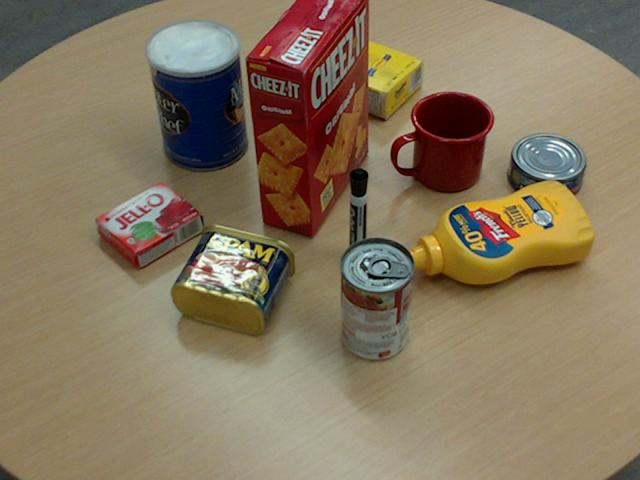cracker_box: (244, 0, 369, 236)
gelatin_box: (94, 179, 202, 267)
large_marker: (349, 168, 367, 262)
master_chef_can: (145, 18, 247, 171)
mug: (391, 90, 493, 191)
mustard_bottle: (402, 179, 593, 284)
potted_meat_can: (170, 223, 294, 333)
sugar_box: (271, 18, 423, 118)
tomato_soup_can: (338, 236, 413, 359)
tuna_fish_can: (506, 132, 584, 201)
